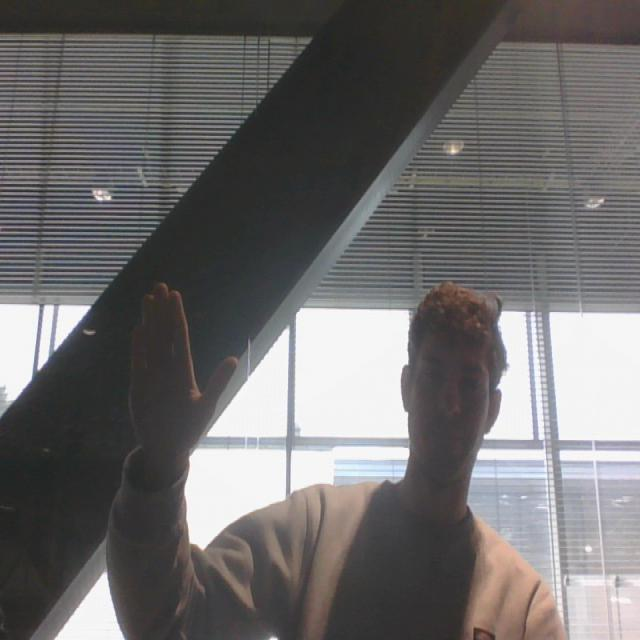backward: (120, 270, 240, 475)
